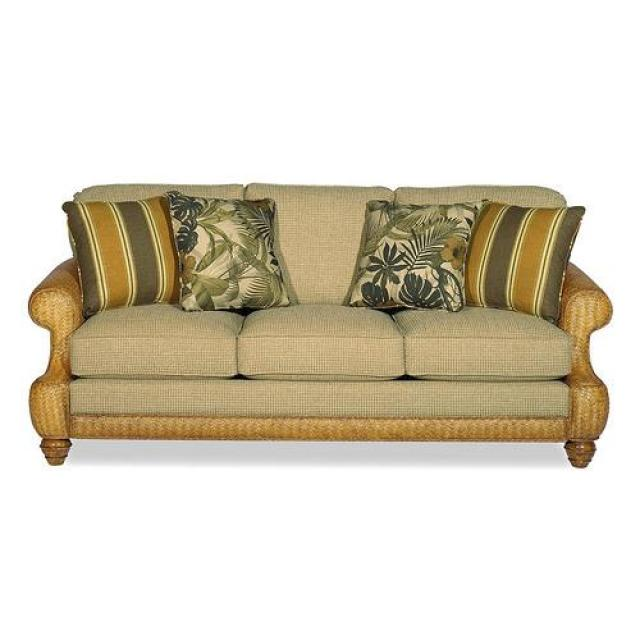sofa: (29, 181, 614, 469)
